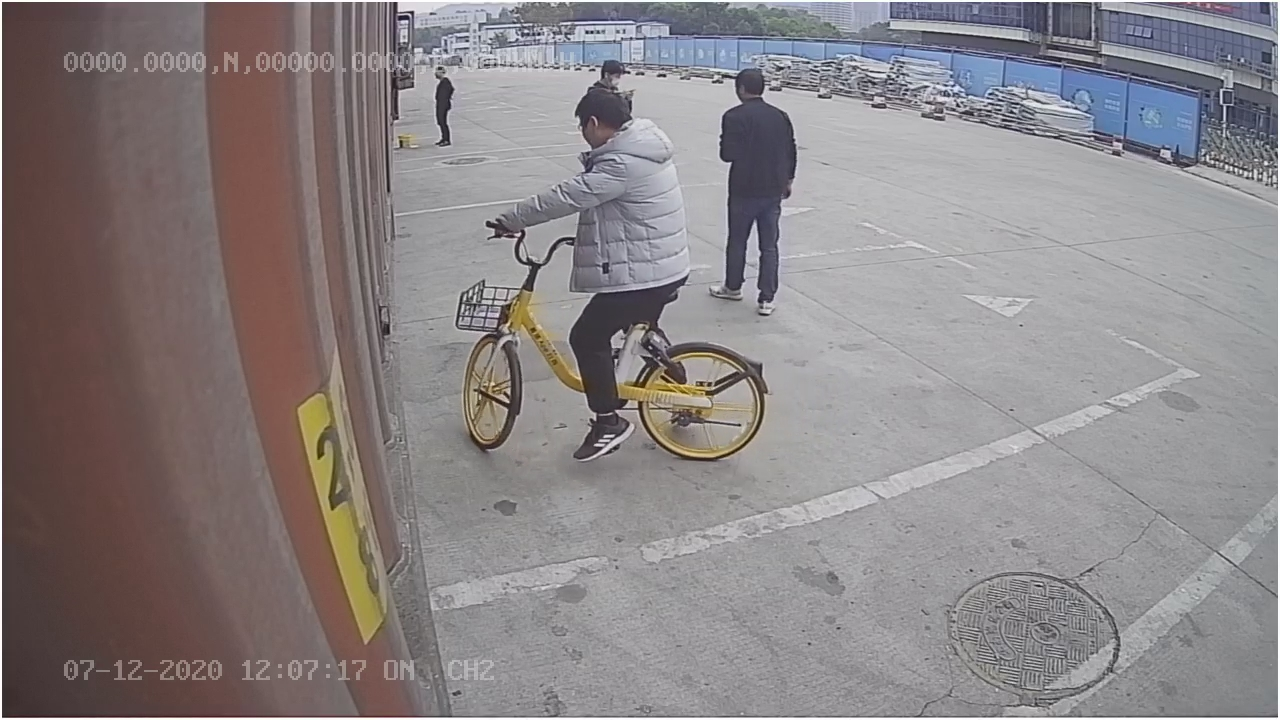person: (710, 62, 801, 320)
